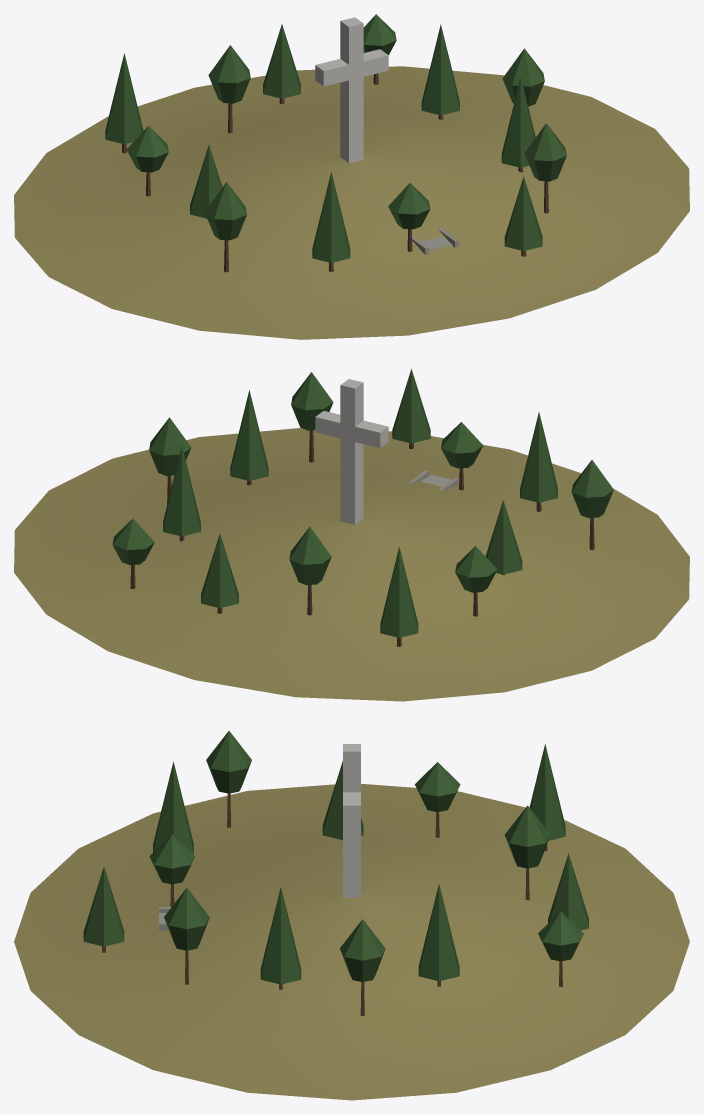
The model's file is desktop.glb.
The picture shows the model from 3 angles, top to bottom: view 1: azimuth 30°, elevation 25°; view 2: azimuth 150°, elevation 25°; view 3: azimuth 270°, elevation 25°; orthographic projection. The views are drawn at different scales.
Visible parts, largest first — view 1: lm.mount-davidson-cross; view 2: lm.mount-davidson-cross; view 3: lm.mount-davidson-cross.
Part boxes in pixels (<box>): lm.mount-davidson-cross: <box>14,14,689,339</box>; lm.mount-davidson-cross: <box>14,368,689,701</box>; lm.mount-davidson-cross: <box>14,731,689,1100</box>.
Size of the model in its own units: 140 by 39.9 by 126.
